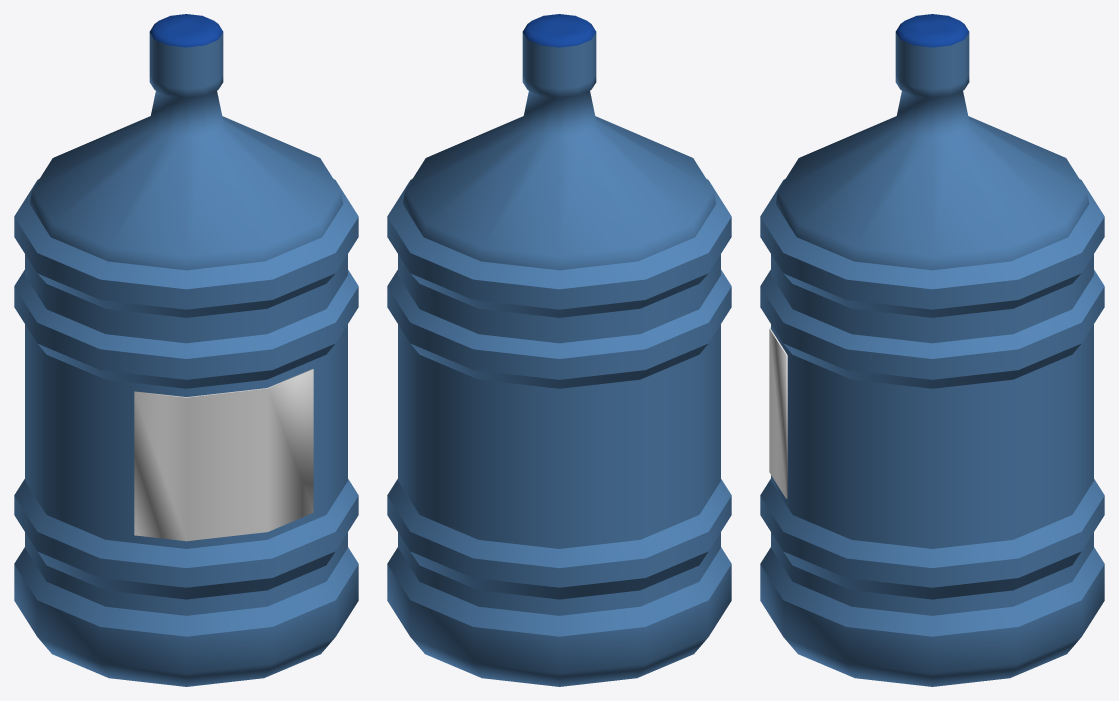
Rendered from Bottle.fbx.
3 views of the same model, side by side, from view 1: azimuth 30°, elevation 25°; view 2: azimuth 150°, elevation 25°; view 3: azimuth 270°, elevation 25° (orthographic).
Visible parts, largest first — view 1: Bottle, Sticker, Krishka; view 2: Bottle, Krishka; view 3: Bottle, Sticker, Krishka.
Boxes of the visible parts, x1,y1,x2,y2 form: Bottle: (14, 32, 358, 686); Sticker: (134, 369, 313, 541); Krishka: (149, 14, 223, 47); Bottle: (387, 32, 731, 686); Krishka: (522, 14, 596, 47); Bottle: (760, 32, 1104, 686); Sticker: (769, 327, 787, 498); Krishka: (895, 14, 969, 47).
Size of the model in its own units: 242 by 460 by 242.
